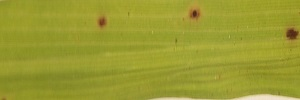RiceBrownSpot: (180, 2, 207, 26), (91, 11, 113, 33), (281, 23, 300, 47)
